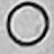no answer: (6, 1, 50, 50)
